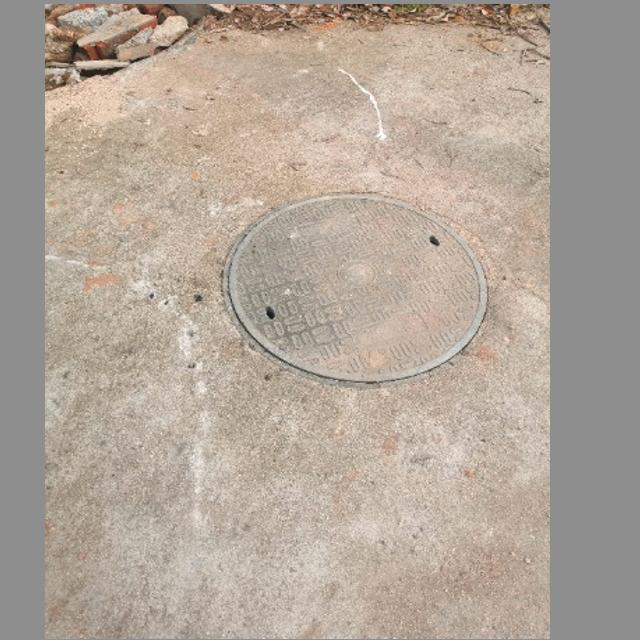good: (222, 193, 490, 386)
